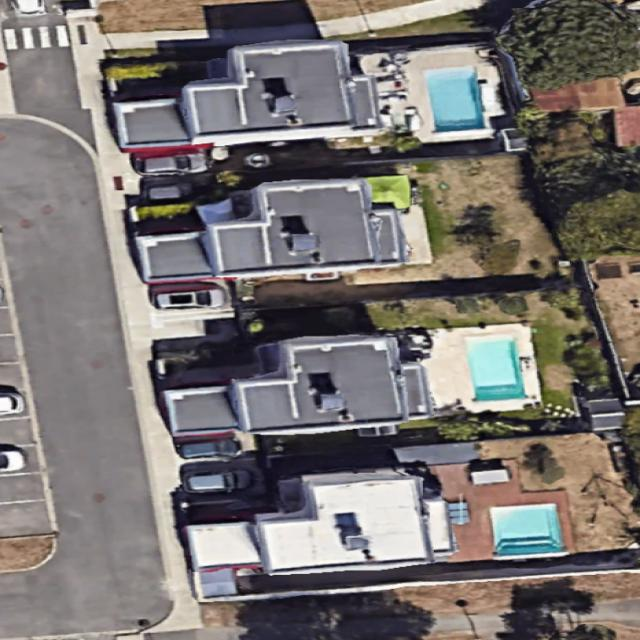maison: (180, 455, 457, 599), (131, 173, 412, 290), (110, 35, 384, 152), (158, 328, 432, 444)
